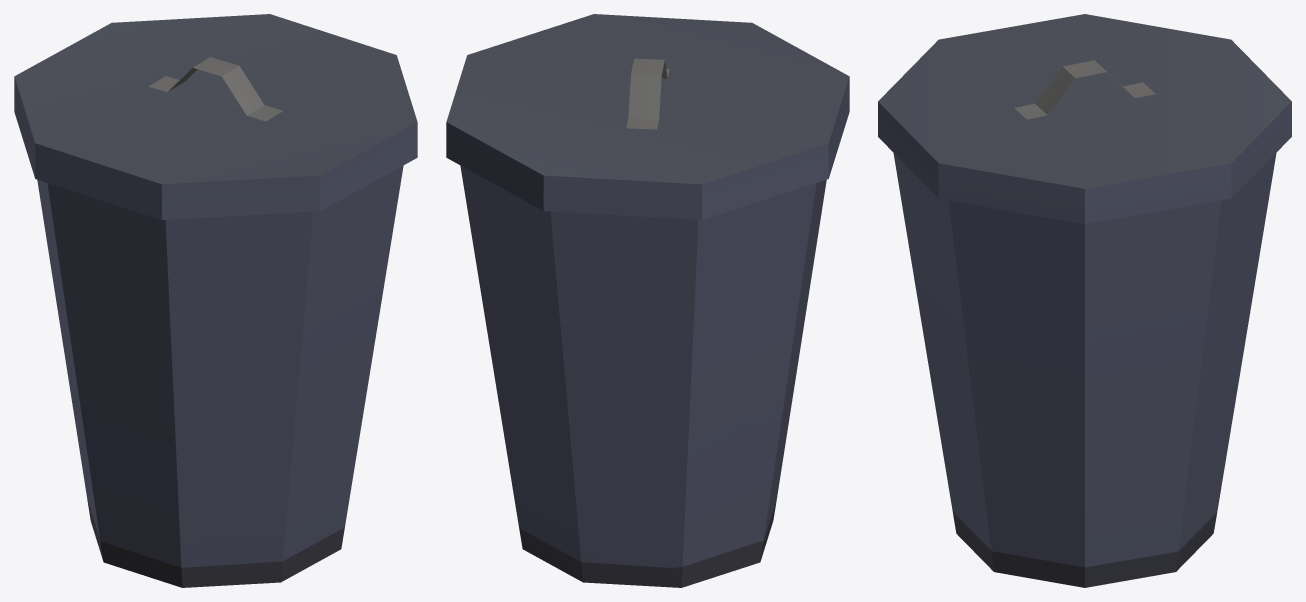
File: SM_DustBin_1.FBX
The picture shows the model from 3 angles, left to right: view 1: azimuth 30°, elevation 25°; view 2: azimuth 150°, elevation 25°; view 3: azimuth 270°, elevation 25°; orthographic projection.
Visible parts, largest first — view 1: SM_DustBin_1; view 2: SM_DustBin_1; view 3: SM_DustBin_1.
Part boxes in pixels (x1=…): SM_DustBin_1: x1=14, y1=14, x2=417, y2=587; SM_DustBin_1: x1=446, y1=14, x2=849, y2=587; SM_DustBin_1: x1=878, y1=14, x2=1291, y2=587.
Size of what is drawn, in the model's own units: 50.99 by 50.99 by 63.11.
